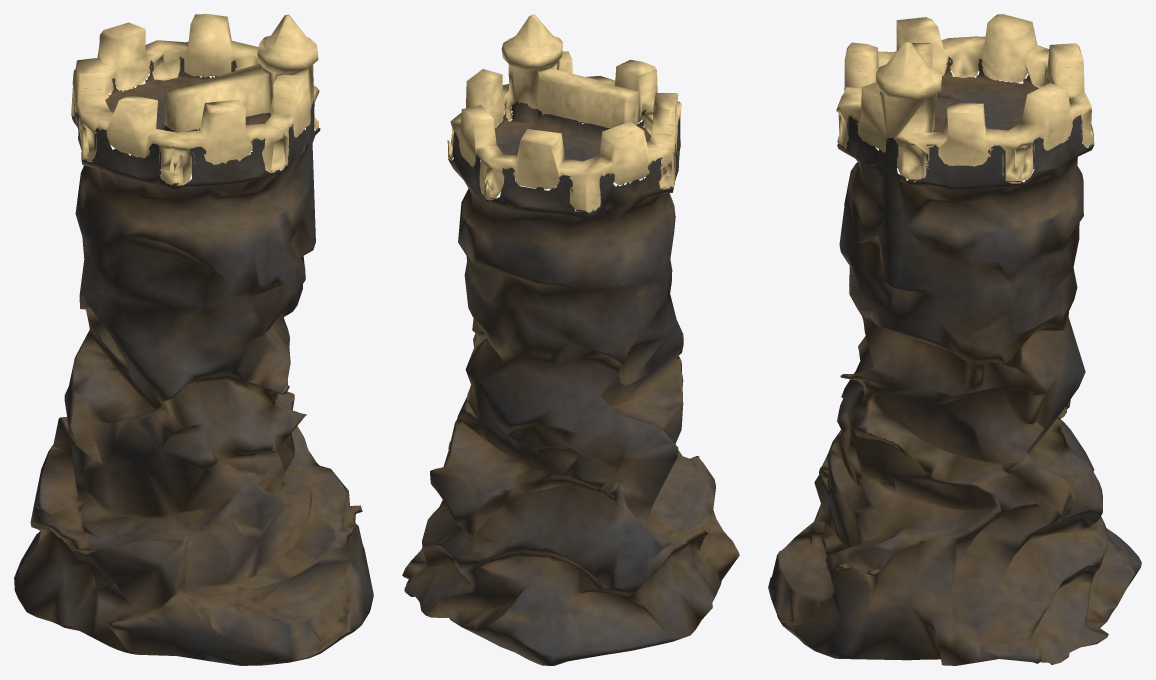
File: rook-black.glb
3 renders of one model, left to right at view 1: azimuth 30°, elevation 25°; view 2: azimuth 150°, elevation 25°; view 3: azimuth 270°, elevation 25°, orthographic. The views are drawn at different scales.
Visible parts, largest first — view 1: Argent Reliquary – Black Rook; view 2: Argent Reliquary – Black Rook; view 3: Argent Reliquary – Black Rook.
Boxes of the visible parts, bbox=[...] form: Argent Reliquary – Black Rook: bbox=[14, 14, 373, 665]; Argent Reliquary – Black Rook: bbox=[402, 14, 739, 665]; Argent Reliquary – Black Rook: bbox=[768, 14, 1141, 665].
Size of the model in its own units: 0.6223 by 1.17 by 0.6577.
2 materials, 2 textured.
